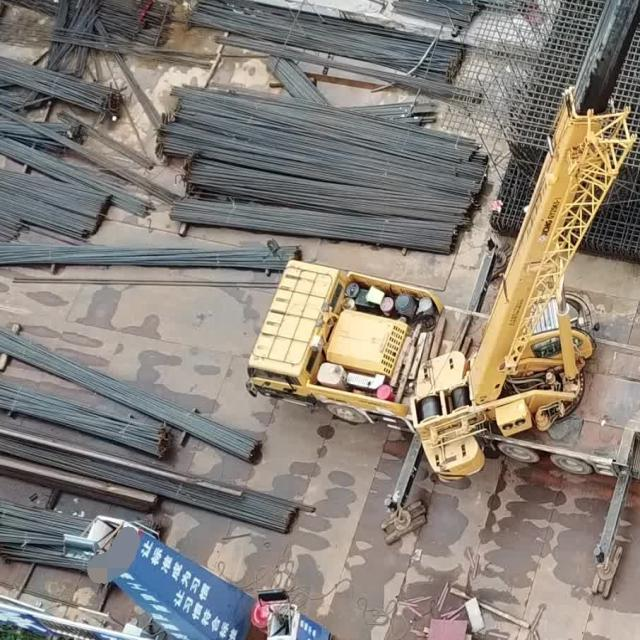crane: (244, 0, 639, 579)
